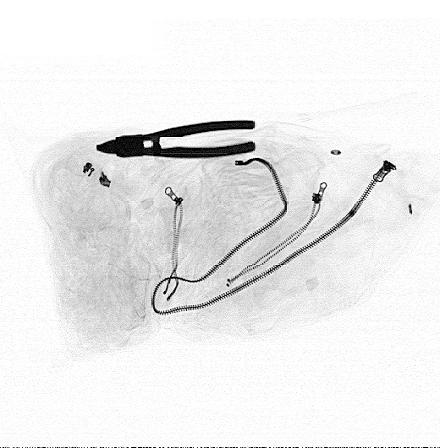Pliers: (94, 118, 258, 161)
